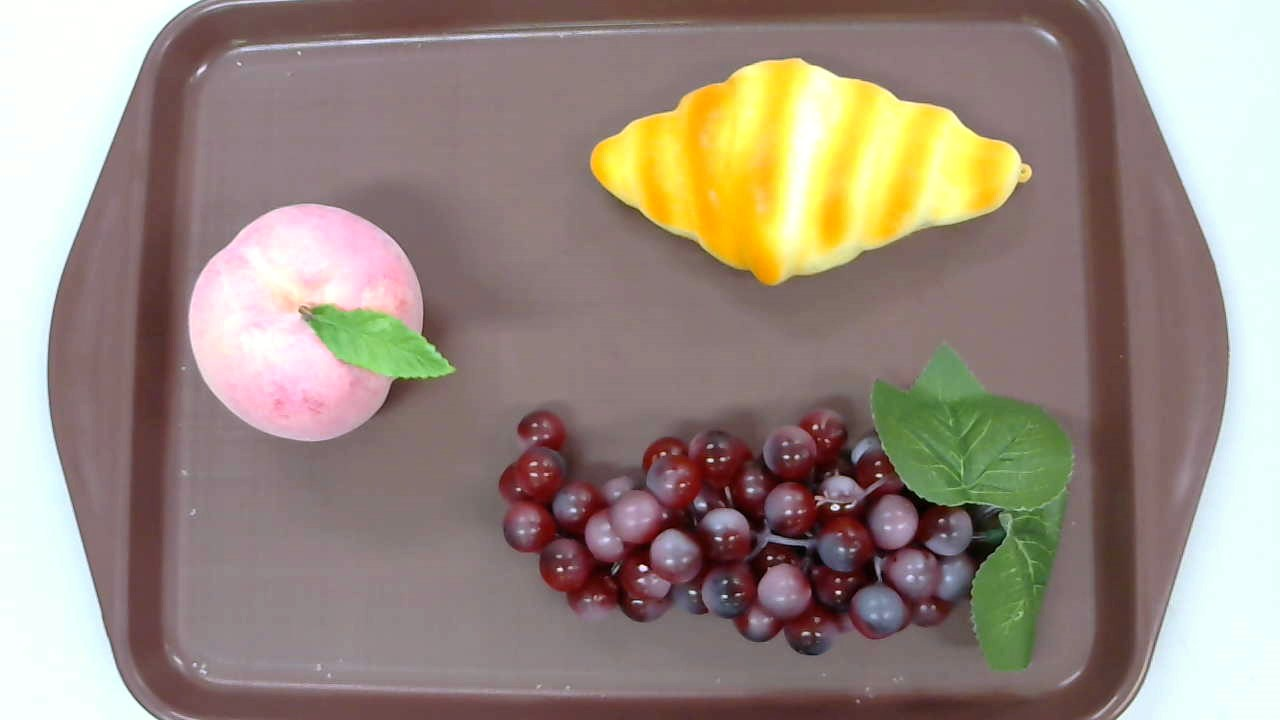croissant: (588, 57, 1032, 286)
grape: (498, 339, 1073, 677)
peach: (188, 203, 456, 442)
